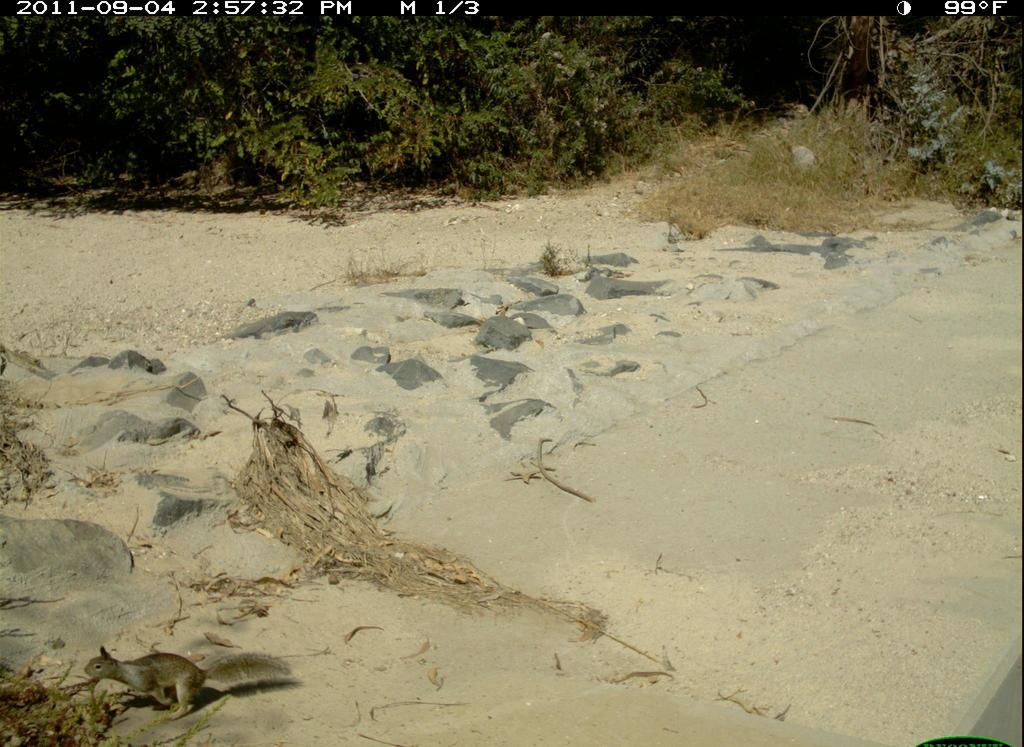squirrel: (84, 639, 297, 724)
